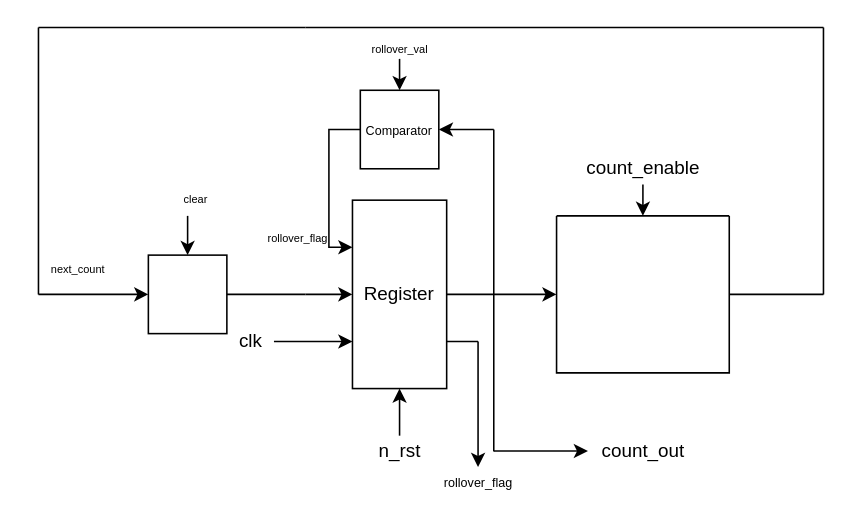
Some shapes in this 853 by 526 pixel diagram are drawn without their labels. Here are the shapes that lost their labels. From the top down, the centre of each, then its label:
At pixel 187 294: "Clear if clear: next_count = 0".
At pixel 642 293: "Increment".
